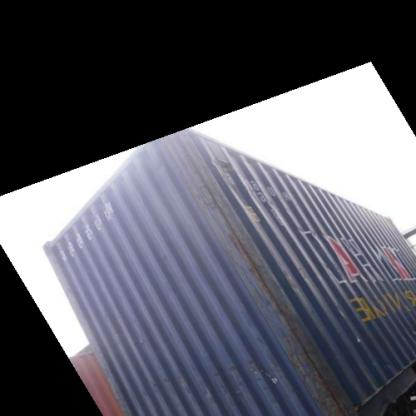Damage: (272, 282, 352, 402), (204, 180, 269, 286), (172, 132, 210, 202)
